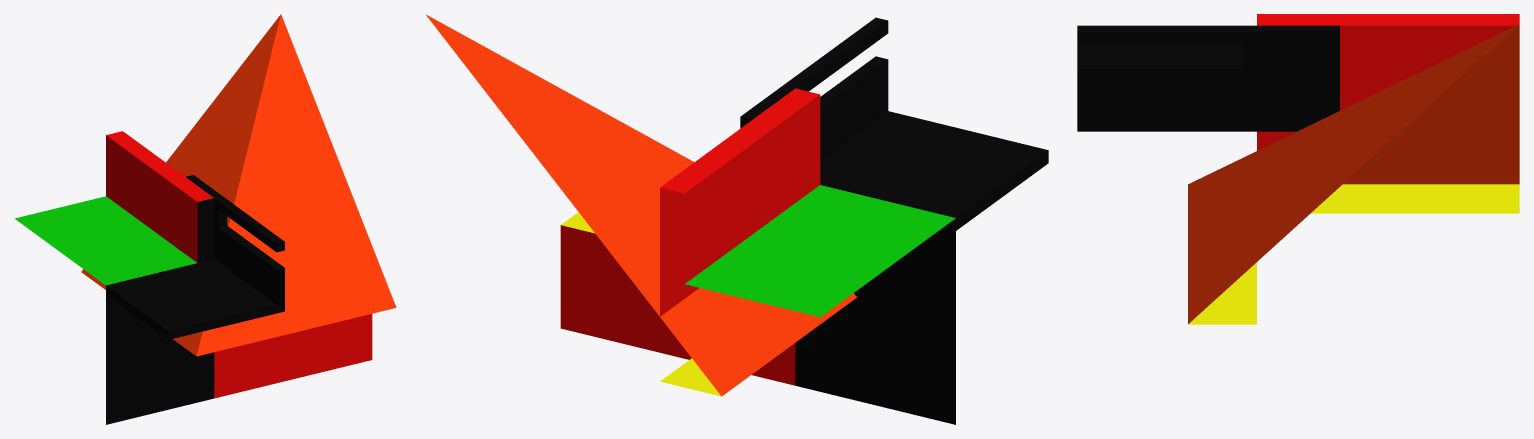
The picture shows the model from 3 angles, left to right: view 1: azimuth 30°, elevation 25°; view 2: azimuth 150°, elevation 25°; view 3: azimuth 270°, elevation 25°; orthographic projection. The views are drawn at different scales.
Parts seen in each view (by area): view 1: None_S_E_E_E_W_P_E_E_None; view 2: None_S_E_E_E_W_P_E_E_None; view 3: None_S_E_E_E_W_P_E_E_None.
Part boxes in pixels (x1,y1,x2,y2): None_S_E_E_E_W_P_E_E_None: (14,14,396,424); None_S_E_E_E_W_P_E_E_None: (426,14,1048,424); None_S_E_E_E_W_P_E_E_None: (1077,14,1519,324).
Bounding box in the file's own units: 100 × 100 × 100.
